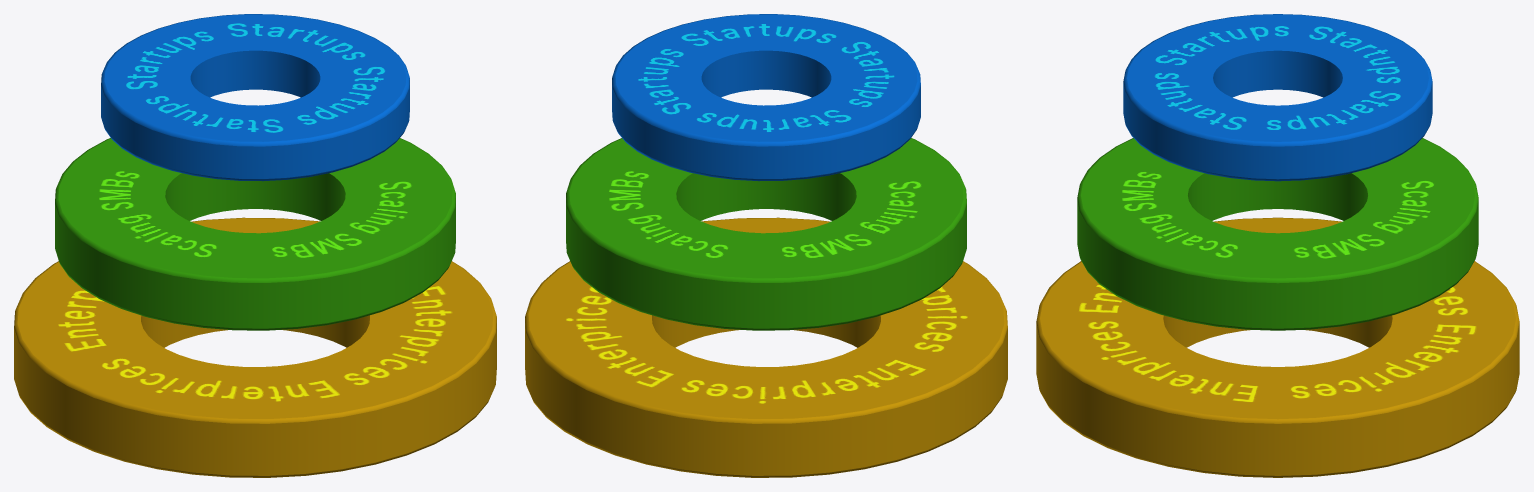
The model's file is web01.FBX.
3 renders of one model, left to right at view 1: azimuth 30°, elevation 25°; view 2: azimuth 150°, elevation 25°; view 3: azimuth 270°, elevation 25°, orthographic.
Visible parts, largest first — view 1: Tube001, Tube002, Tube003; view 2: Tube001, Tube002, Tube003; view 3: Tube001, Tube002, Tube003.
Part boxes in pixels (x1,y1,x2,y2): Tube001: (14,217,496,477); Tube002: (55,138,455,330); Tube003: (101,14,409,181); Tube001: (525,217,1007,477); Tube002: (566,138,966,330); Tube003: (612,14,920,181); Tube001: (1036,217,1519,477); Tube002: (1077,138,1478,330); Tube003: (1123,14,1432,181).
Size of the model in its own units: 67.4 by 67.4 by 46.
